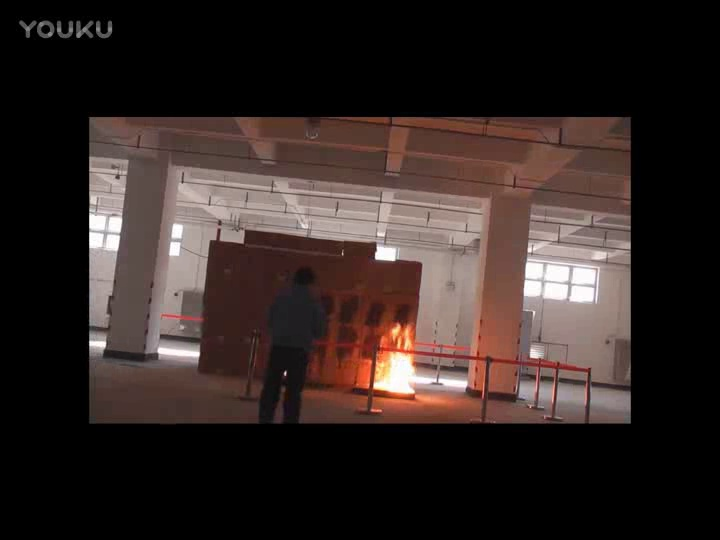fire: (374, 318, 421, 396)
